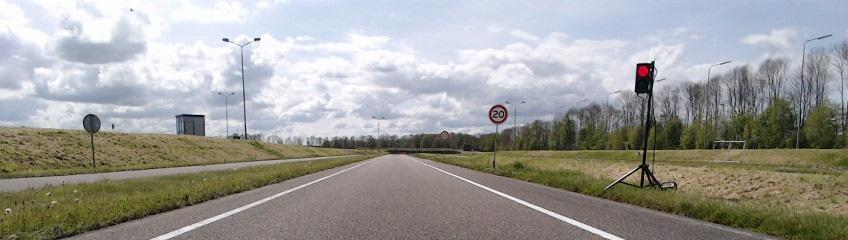Speed-limit-10km-h-: (440, 131, 449, 140)
Speed-limit-20km-h-: (489, 104, 507, 123)
TrafficLight-red: (635, 63, 652, 94)
